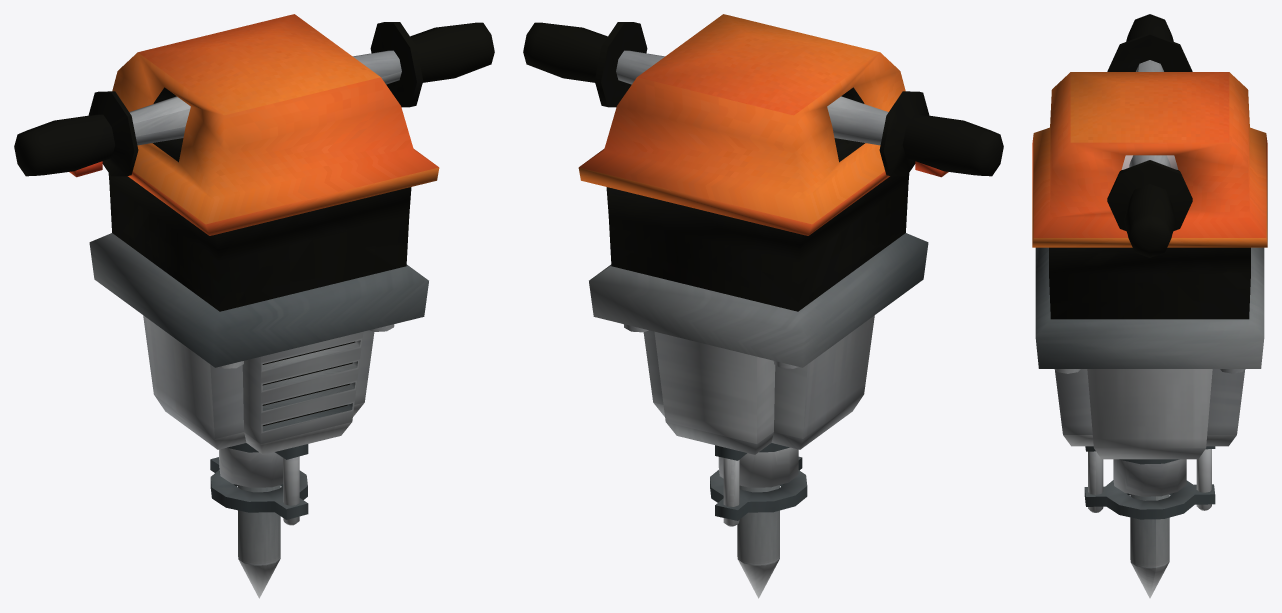
The model's file is jackhammer.fbx.
3 renders of one model, left to right at view 1: azimuth 30°, elevation 25°; view 2: azimuth 150°, elevation 25°; view 3: azimuth 270°, elevation 25°, orthographic. The views are drawn at different scales.
Visible parts, largest first — view 1: jackhammer; view 2: jackhammer; view 3: jackhammer.
Boxes of the visible parts, x1,y1,x2,y2 form: jackhammer: (14, 14, 494, 598); jackhammer: (523, 14, 1003, 598); jackhammer: (1032, 14, 1267, 598).
Size of the model in its own units: 42.54 by 47.71 by 20.26.
